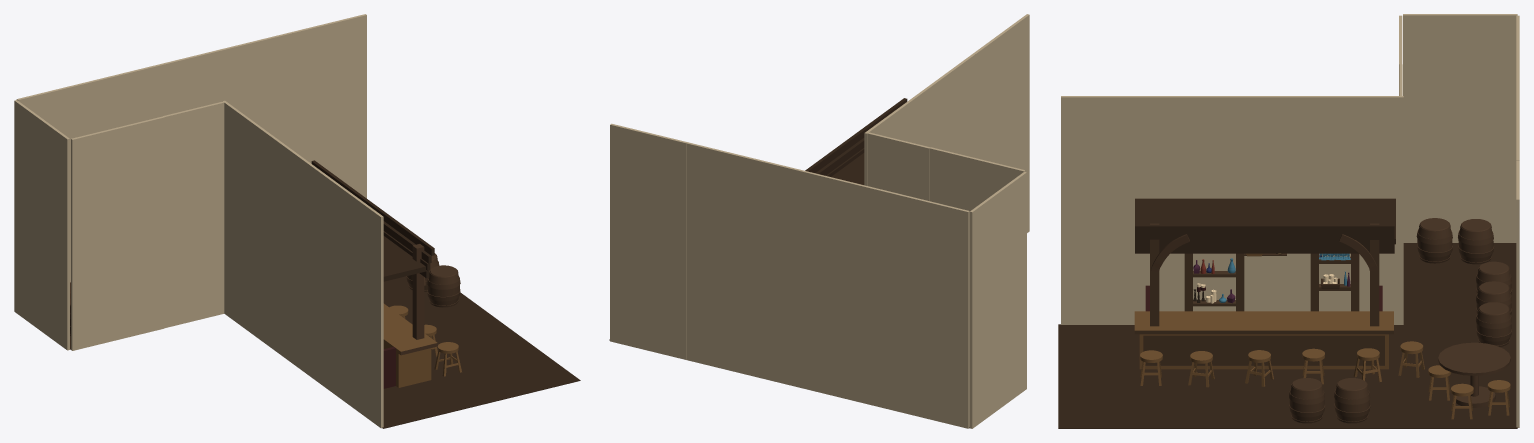
The model's file is Medieval Tavern FBX.fbx.
The picture shows the model from 3 angles, left to right: view 1: azimuth 30°, elevation 25°; view 2: azimuth 150°, elevation 25°; view 3: azimuth 270°, elevation 25°; orthographic projection. The views are drawn at different scales.
Visible parts, largest first — view 1: Floor, pCube38, pCube11, pCube33, pCube34, pCube39, pCube12, pCube37, pCube42, pCube19, pCube8, pCube41 (+11 smaller); view 2: pCube36, pCube34, pCube9, pCube10, pCube35, pCube13, pCube33, pCube14, pCube37, pCube8, pCube42, pCube41 (+7 smaller); view 3: Floor, Bar:Bar_Counter, pCube37, pCube42, pCube40, pCube41, pCube8, pCube19, Bar:Bar_Ceiling, pCube17, pCube18, Misc_Shelf_Items___Arranged_on_Shelves__no_shelves_:BarShelv (×4) (+19 smaller).
Boxes of the visible parts, x1,y1,x2,y2 form: Floor: [70, 276, 580, 428]; pCube38: [71, 116, 164, 245]; pCube11: [71, 223, 164, 350]; pCube33: [291, 14, 366, 138]; pCube34: [200, 32, 292, 141]; pCube39: [163, 101, 224, 222]; pCube12: [164, 208, 224, 328]; pCube37: [14, 100, 69, 244]; pCube42: [328, 178, 383, 322]; pCube19: [328, 284, 383, 428]; pCube8: [14, 206, 69, 350]; pCube41: [275, 139, 329, 283]; pCube36: [874, 188, 969, 320]; pCube34: [686, 142, 780, 274]; pCube9: [874, 297, 969, 428]; pCube10: [779, 274, 873, 405]; pCube35: [779, 165, 874, 297]; pCube13: [686, 252, 780, 382]; pCube33: [610, 123, 687, 251]; pCube14: [610, 233, 686, 359]; pCube37: [969, 172, 1026, 320]; pCube8: [969, 281, 1026, 428]; pCube42: [973, 14, 1029, 158]; pCube41: [919, 54, 975, 157]; Floor: [1058, 243, 1517, 428]; Bar:Bar_Counter: [1134, 311, 1393, 369]; pCube37: [1403, 14, 1517, 129]; pCube42: [1061, 96, 1175, 211]; pCube40: [1288, 96, 1403, 211]; pCube41: [1175, 96, 1290, 198]; pCube8: [1403, 129, 1516, 242]; pCube19: [1061, 211, 1175, 324]; Bar:Bar_Ceiling: [1135, 198, 1395, 244]; pCube17: [1288, 211, 1403, 324]; pCube18: [1175, 253, 1290, 311]; Misc_Shelf_Items___Arranged_on_Shelves__no_shelves_:BarShelv (×4): [1184, 253, 1359, 311].
Size of the model in its own units: 172 by 97.97 by 179.
1 material, 1 textured.
